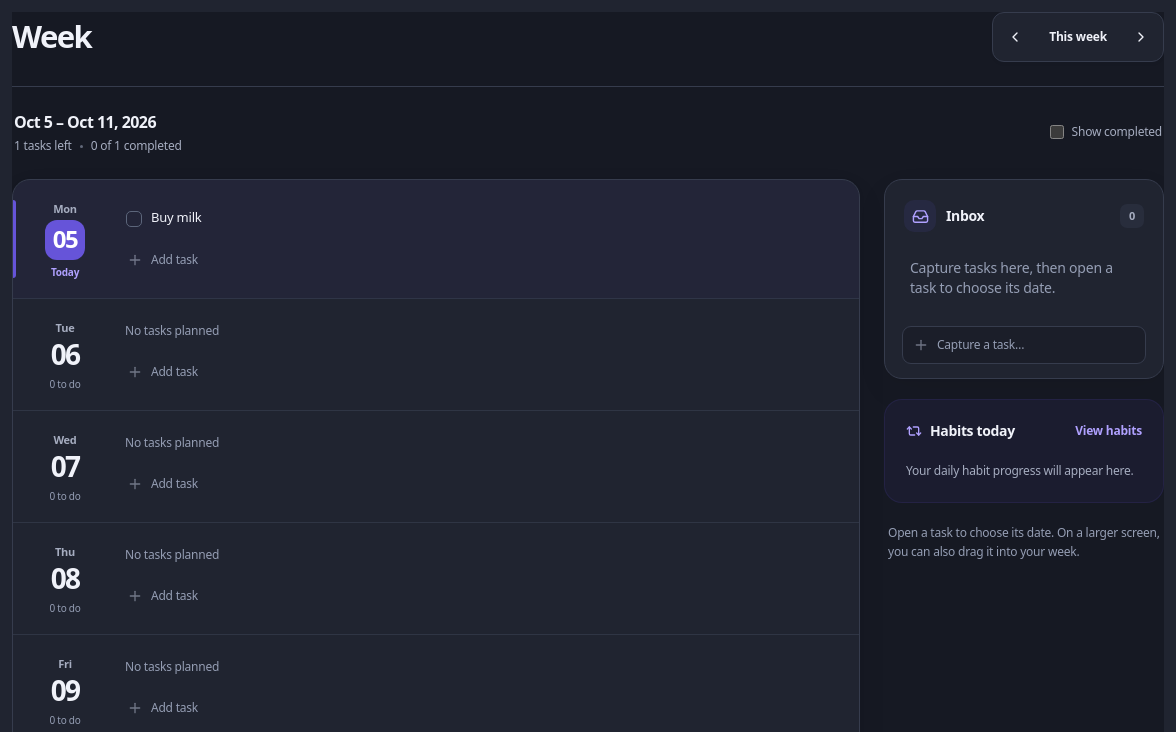
WeekBoard planning controls › changes the displayed week and task summary, then returns to this week
Expected: the text "1 tasks left" is shown, [14,138,72,154]
Click the button named "Next week" at (1141, 37), box [1123,17,1159,57]
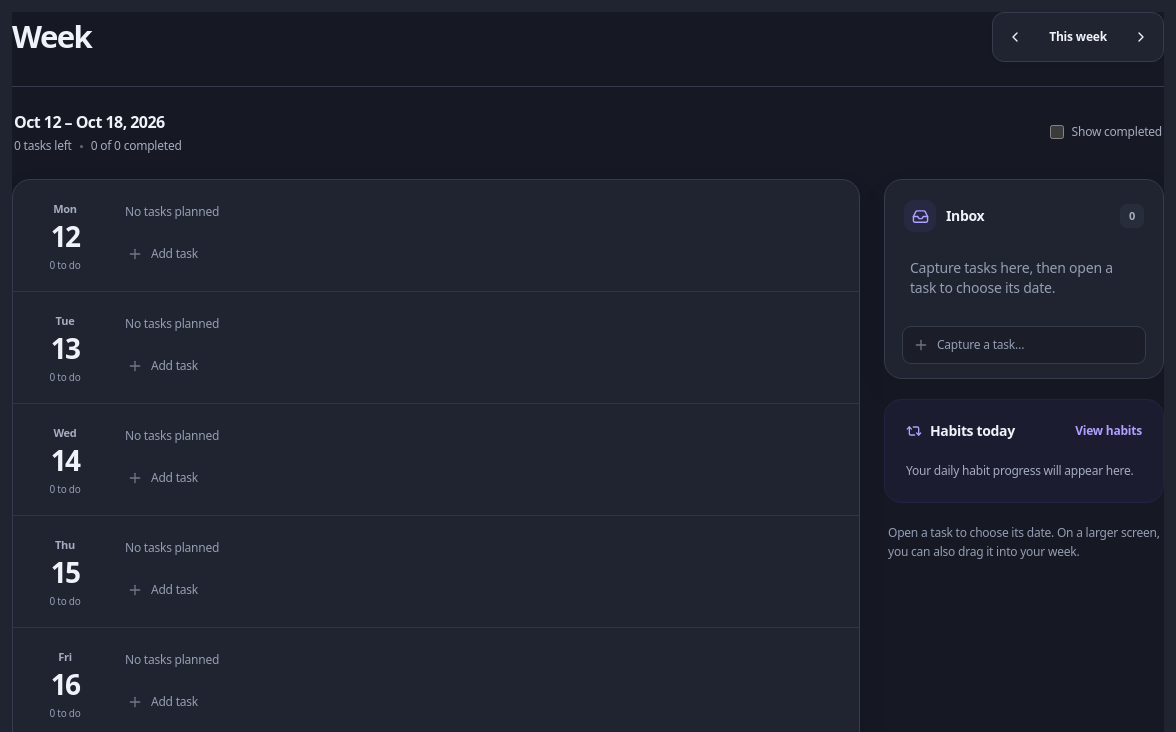
Result: the button "Buy milk" is gone
Result: the text "0 tasks left" is shown at [14,138,72,154]
Click the button "This week" at (1078, 37), box [1037,17,1119,57]
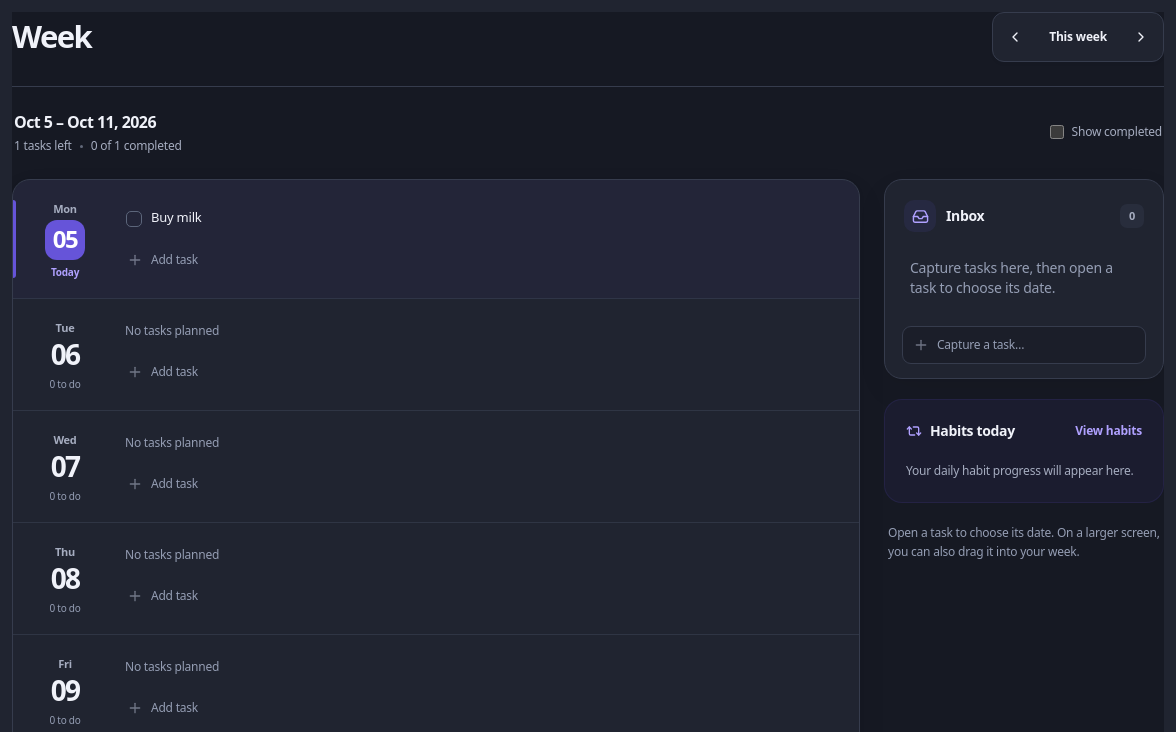
Result: the button "Buy milk" is shown at [151,209,832,227]
Click the button named "Previous week" at (1015, 37), box [997,17,1033,57]
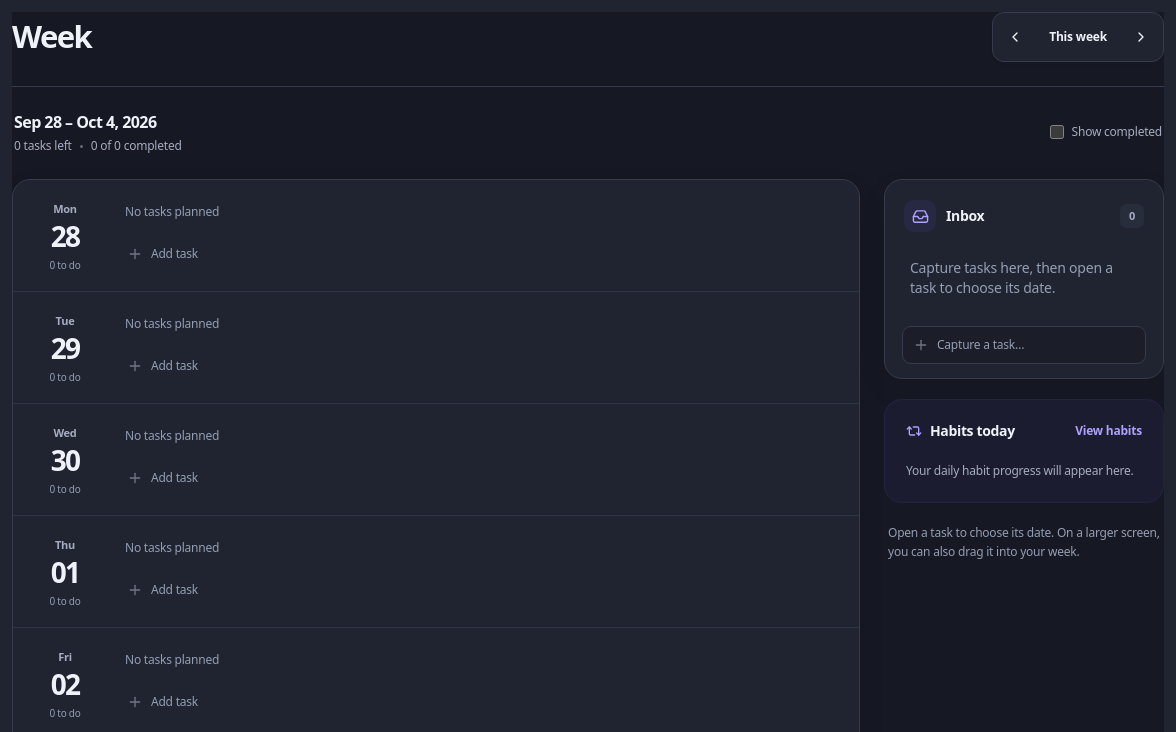
Result: the button "Buy milk" is gone
